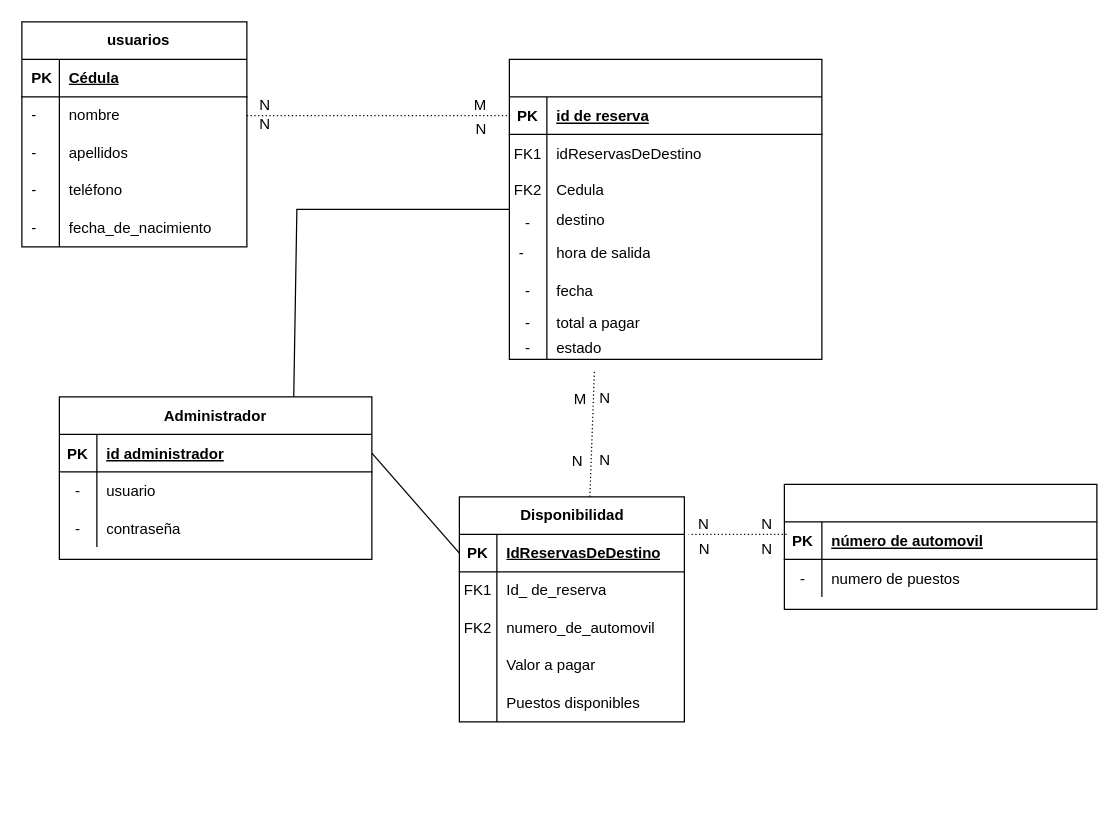
This 1119x831 diagram has some shape labels left out. The shapes that lost their labels are listed below. From the top down, each one's box as (x1, y1, x2, y2) in pixels, then its label:
(508, 58, 822, 359): reservaciones
(783, 483, 1097, 609): Automoviles
